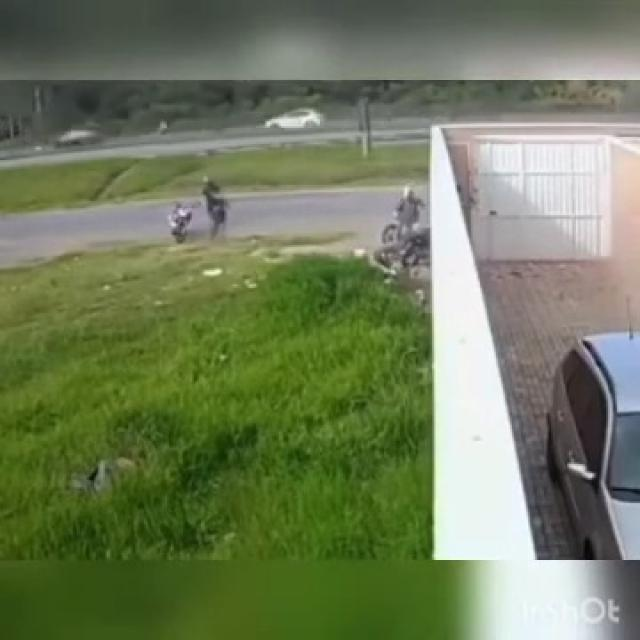accident: (361, 219, 447, 280)
